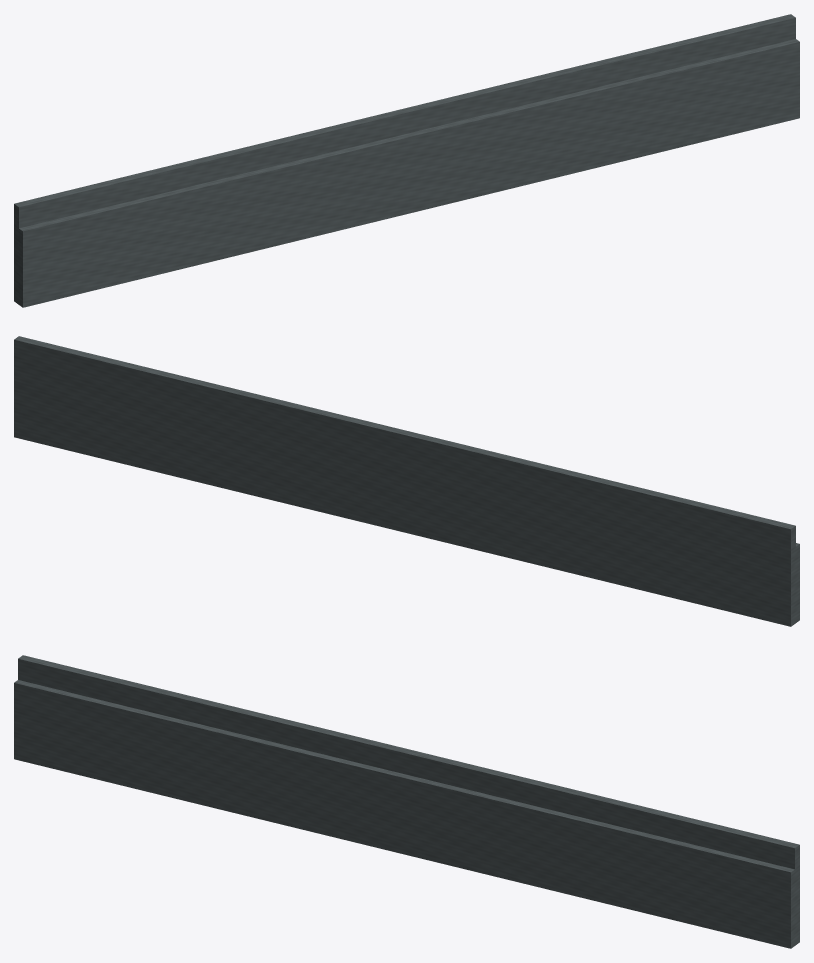
3 renders of one model, top to bottom at view 1: azimuth 30°, elevation 25°; view 2: azimuth 150°, elevation 25°; view 3: azimuth 330°, elevation 25°, orthographic.
Parts seen in each view (by area): view 1: finish-surface; view 2: finish-surface; view 3: finish-surface.
Boxes of the visible parts, x1,y1,x2,y2 form: finish-surface: (14, 14, 799, 307); finish-surface: (14, 336, 799, 626); finish-surface: (14, 655, 799, 948).
Size of the model in its own units: 1 by 0.12 by 0.02.
Materials: 1 (1 with a texture image).
